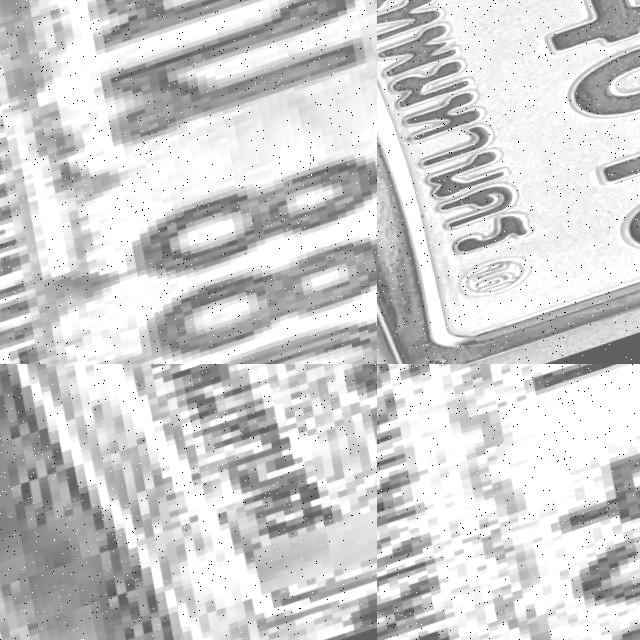license-plate: (0, 0, 377, 364), (0, 364, 377, 640), (377, 0, 640, 364), (377, 364, 640, 640)
